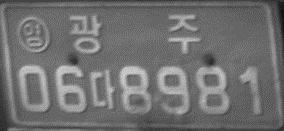0: (17, 65, 50, 113)
1: (235, 65, 268, 116)
6: (53, 64, 87, 115)
8: (195, 65, 231, 116), (118, 65, 151, 115)
9: (155, 65, 190, 116)
광주_D: (68, 14, 201, 54)
다: (89, 69, 116, 110)
영: (16, 16, 51, 53)
